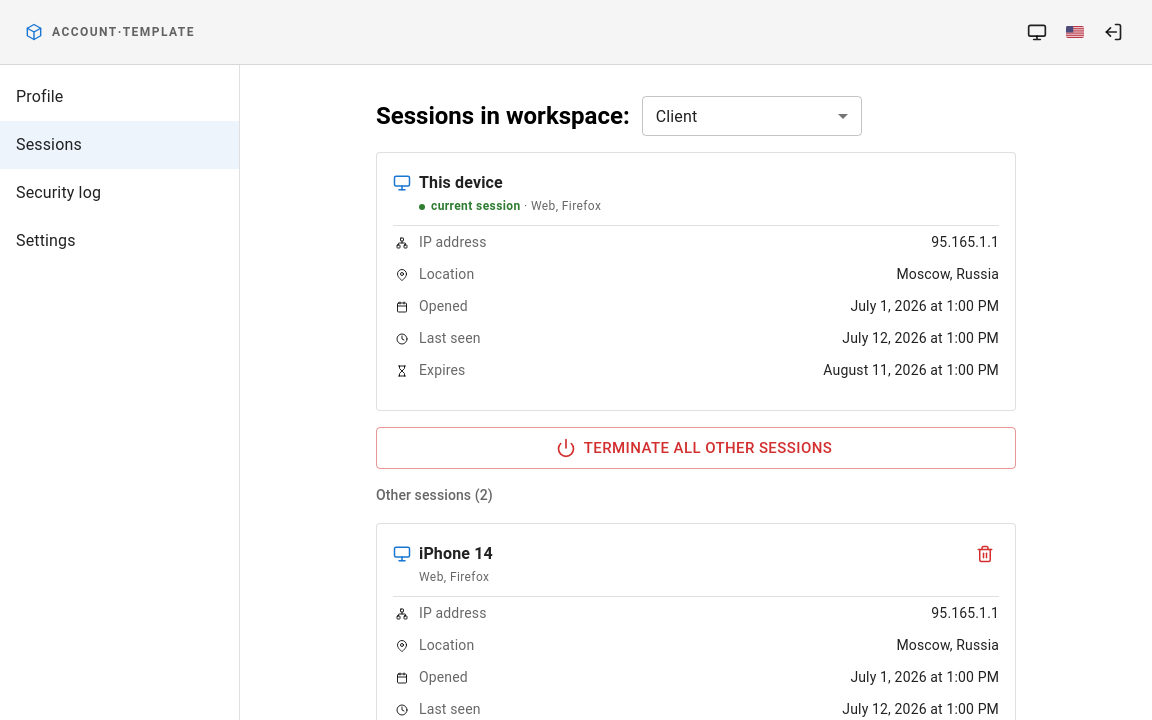
SessionsPage › the chosen realm goes into the URL: a reload and a forwarded link both keep it
Check: the heading "This device" is shown, box [419,173,503,192]
Press the mouse on the dropdown: (677, 116) [656,106,697,126]
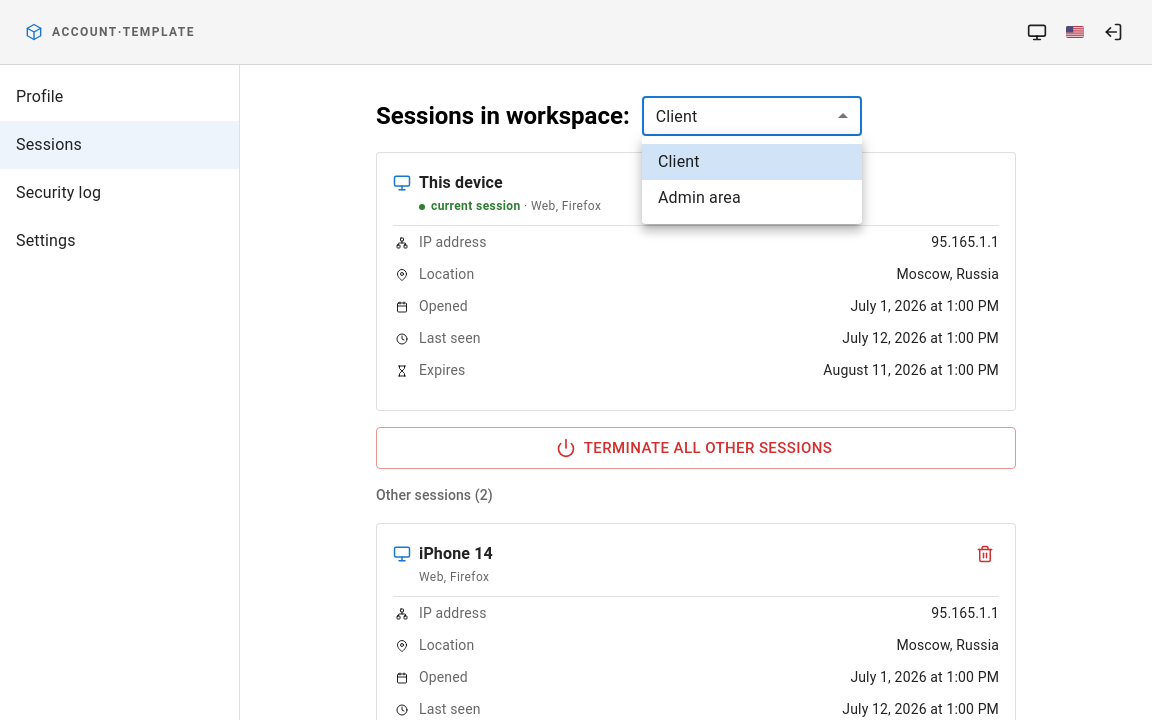
Click the option "Admin area": (699, 198) [658,188,741,207]
(page scrolled)
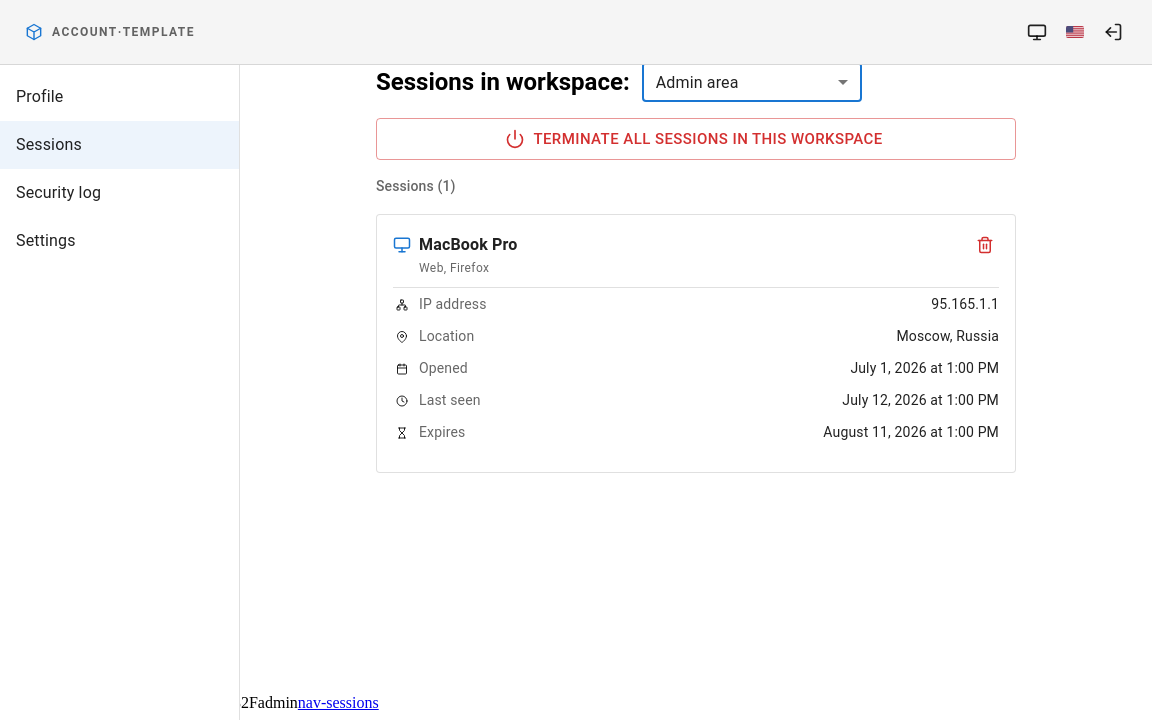
Check: the text with test id "location" reads "/sessions?realm=account-template%2Fadmin", box [8,694,298,711]
